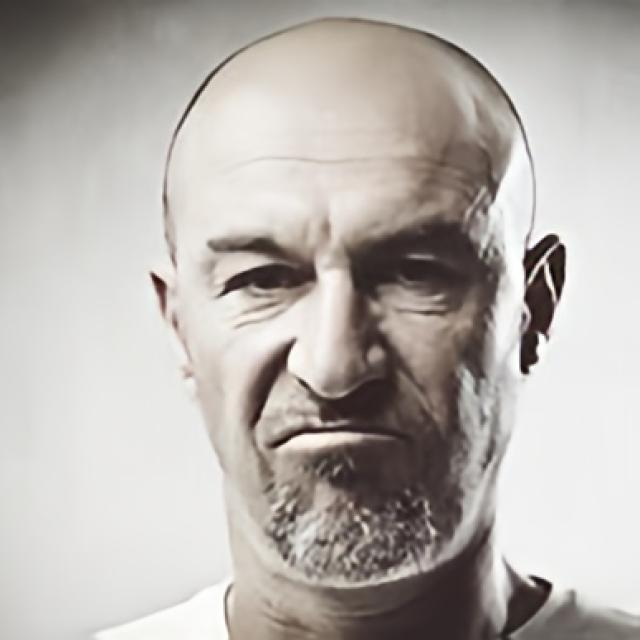disgust: (167, 92, 535, 588)
